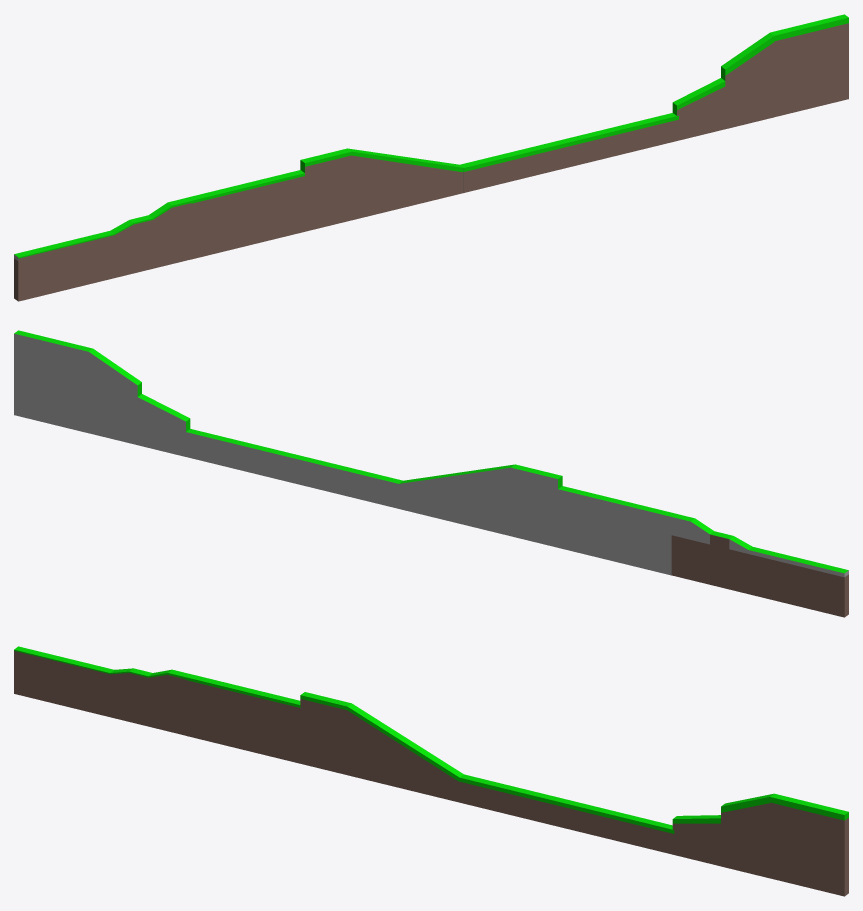
Rendered from first_1.fbx.
The picture shows the model from 3 angles, top to bottom: view 1: azimuth 30°, elevation 25°; view 2: azimuth 150°, elevation 25°; view 3: azimuth 330°, elevation 25°; orthographic projection.
Parts seen in each view (by area): view 1: polySurface5; view 2: polySurface5; view 3: polySurface5.
Boxes of the visible parts, x1=… form: polySurface5: x1=14, y1=14, x2=848, y2=301; polySurface5: x1=14, y1=330, x2=848, y2=617; polySurface5: x1=14, y1=646, x2=848, y2=896.
Size of the model in its own units: 216 by 20.26 by 2.02.
